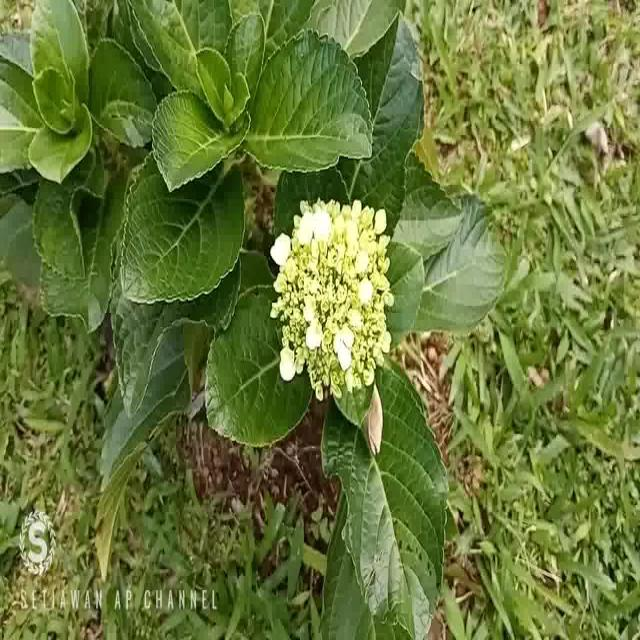Flower: (265, 187, 393, 404)
